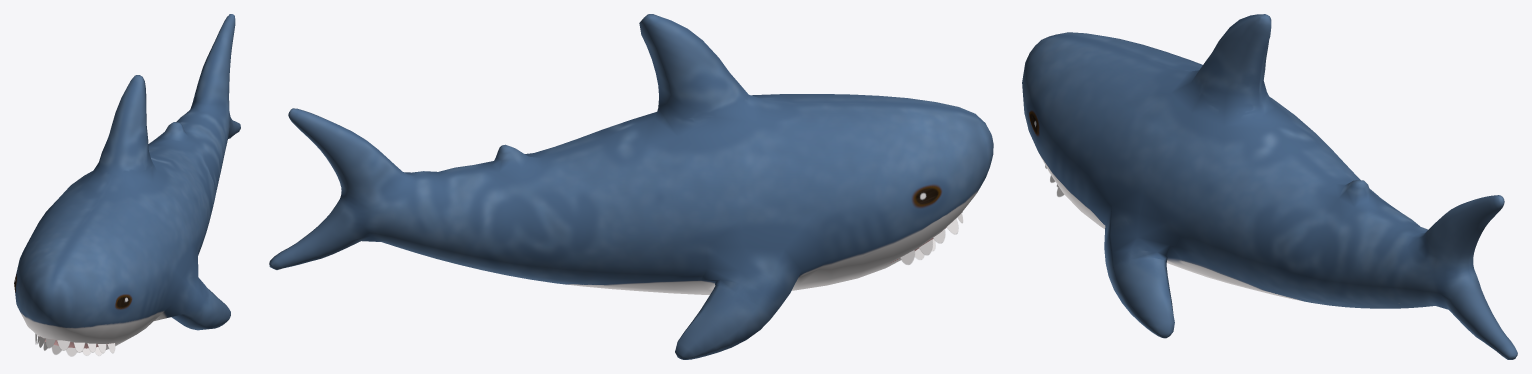
3 renders of one model, left to right at view 1: azimuth 30°, elevation 25°; view 2: azimuth 150°, elevation 25°; view 3: azimuth 270°, elevation 25°, orthographic. The views are drawn at different scales.
Visible parts, largest first — view 1: Low_poly_blahaj1; view 2: Low_poly_blahaj1; view 3: Low_poly_blahaj1.
Boxes of the visible parts, x1=… form: Low_poly_blahaj1: x1=14, y1=14, x2=240, y2=356; Low_poly_blahaj1: x1=269, y1=14, x2=993, y2=359; Low_poly_blahaj1: x1=1022, y1=14, x2=1517, y2=359.
Bounding box in the file's own units: 0.0571 × 0.0325 × 0.0499.
2 materials, 2 textured.
